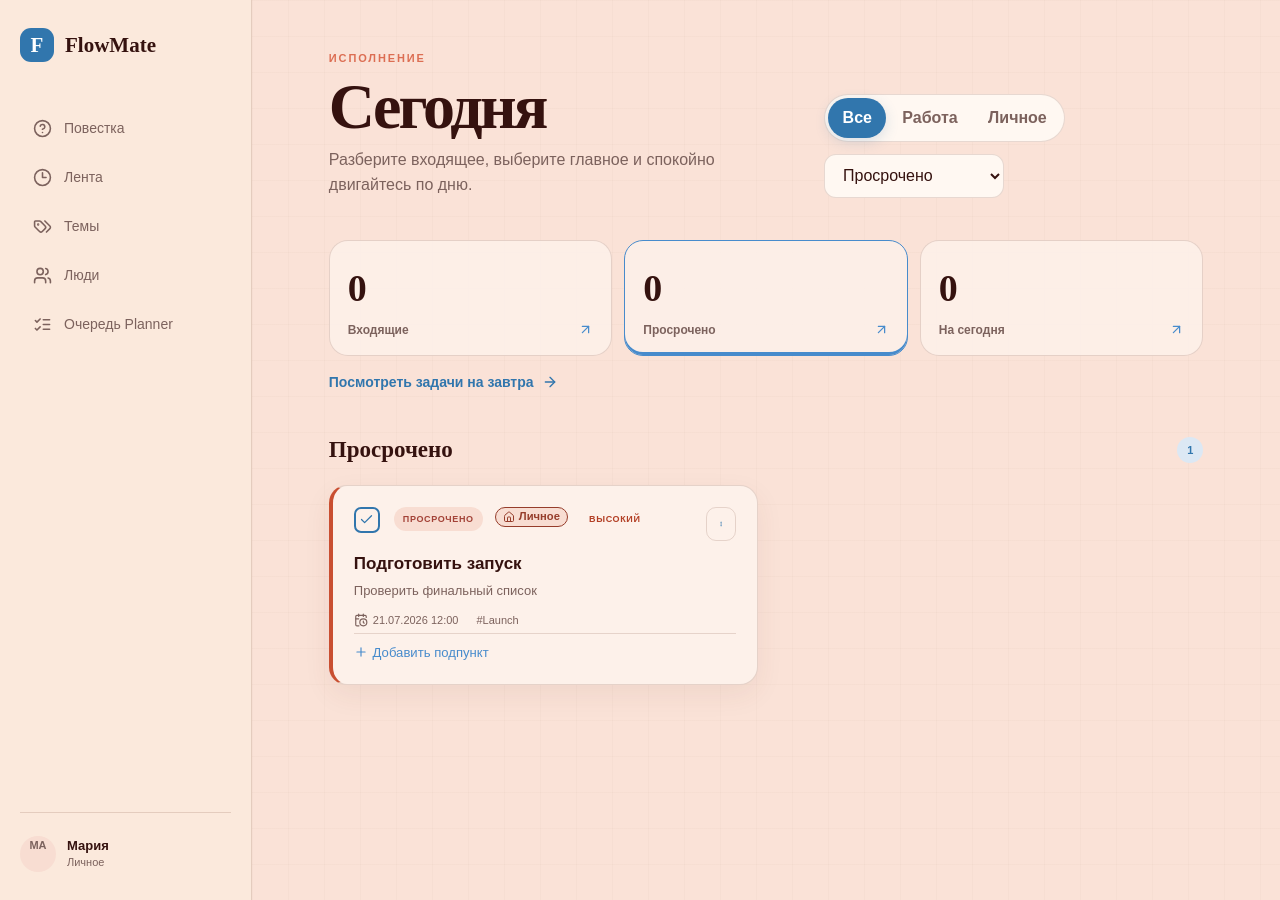
it: operational screens › moves a work item to the opposite workspace from the actions menu
The image size is (1280, 900).
Click the button named "Ещё действия" at point(721, 524), box [706, 507, 736, 541]
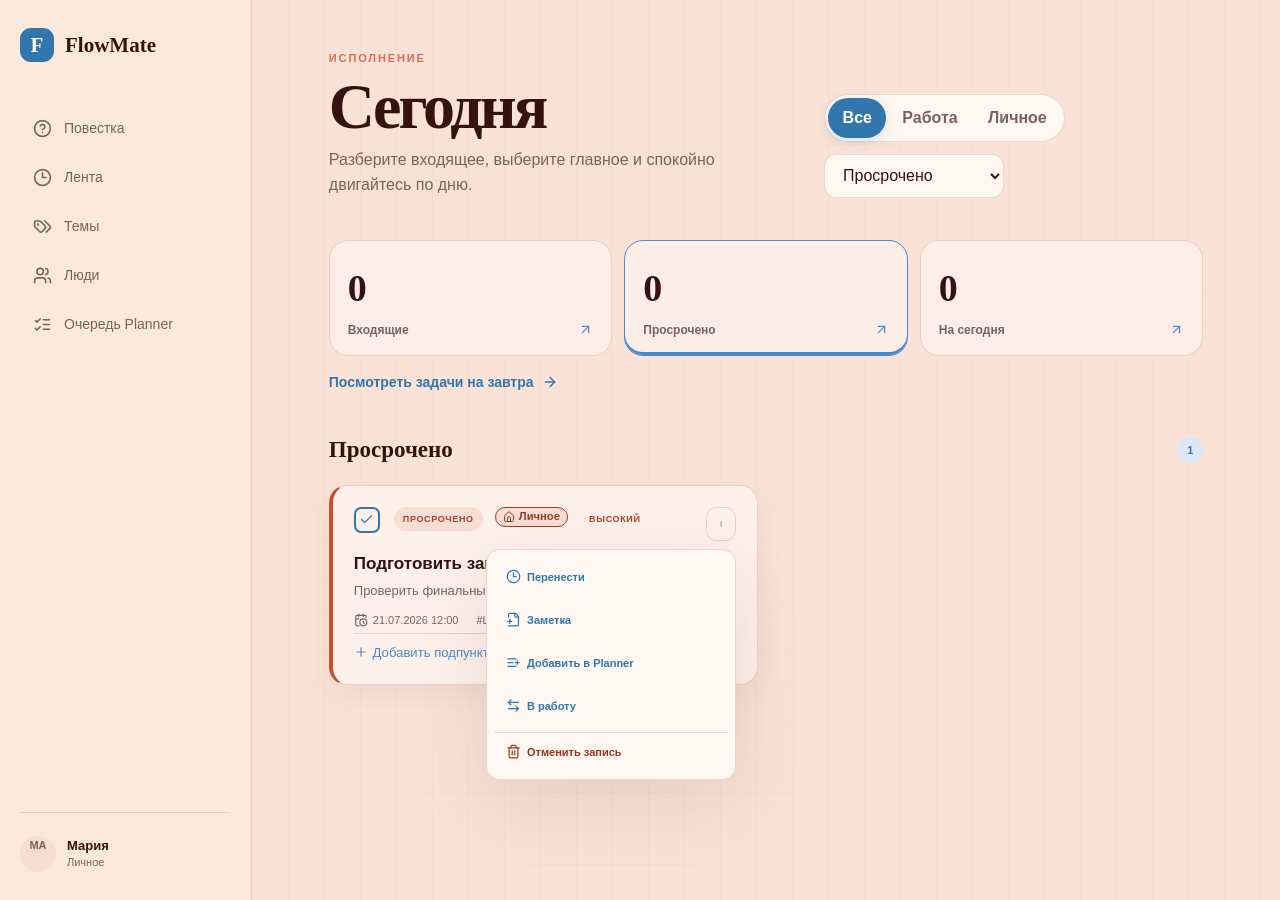
Click the menu item "В работу" at point(611, 706), box [494, 686, 728, 726]
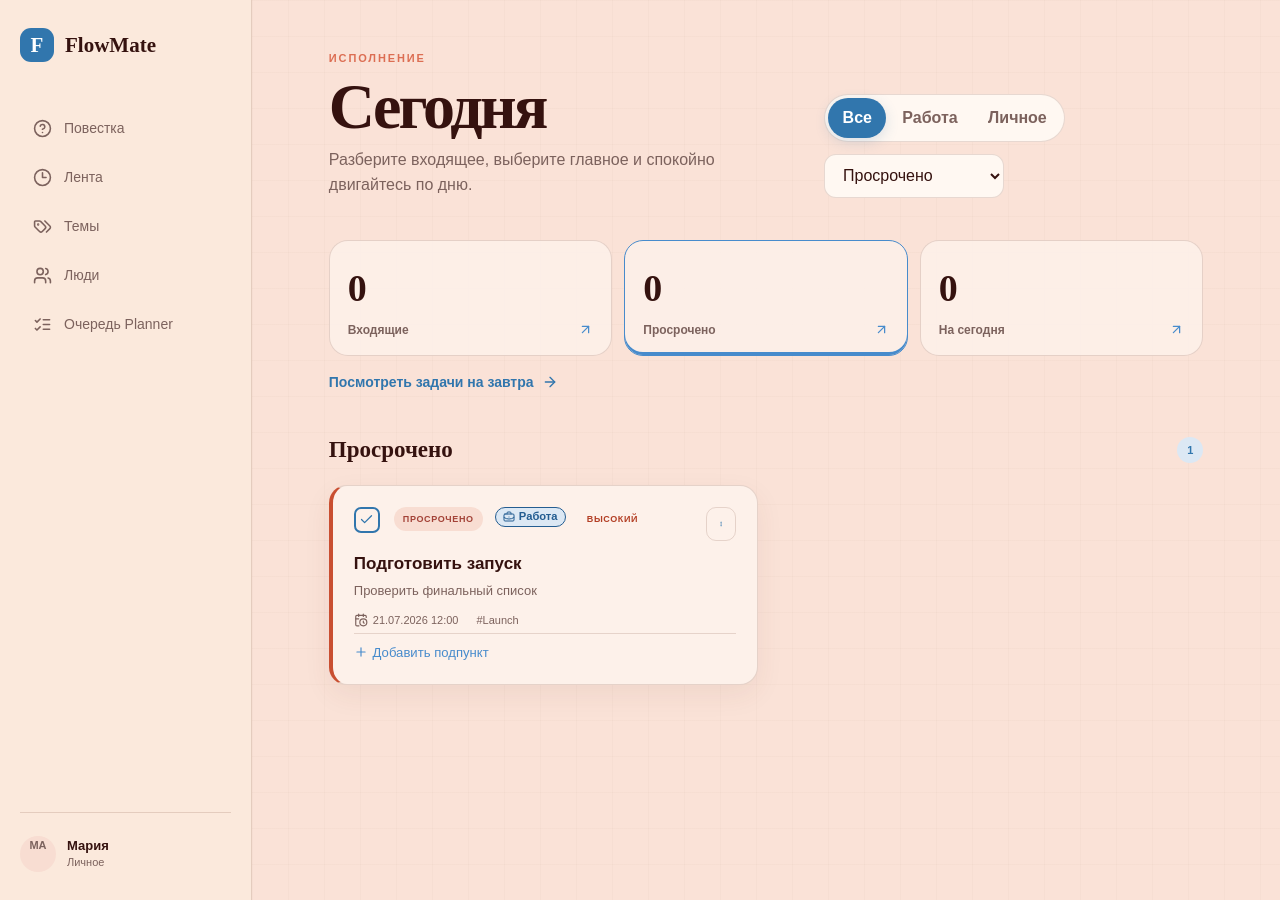
Result: the text "Работа" is shown at [495, 507, 566, 527]
